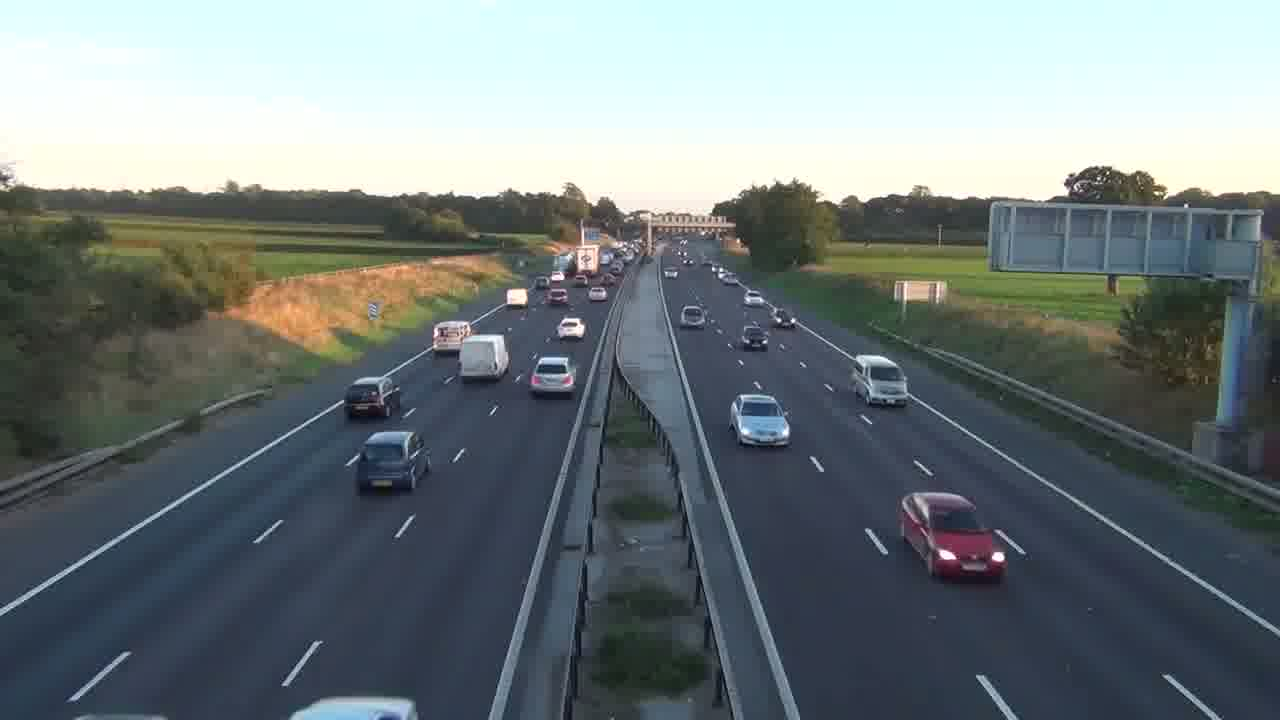car: (897, 490, 1008, 583), (347, 429, 433, 492), (731, 394, 791, 447), (344, 376, 401, 420), (528, 354, 578, 398), (741, 324, 769, 350)
truck: (850, 353, 910, 408), (458, 333, 510, 383)
